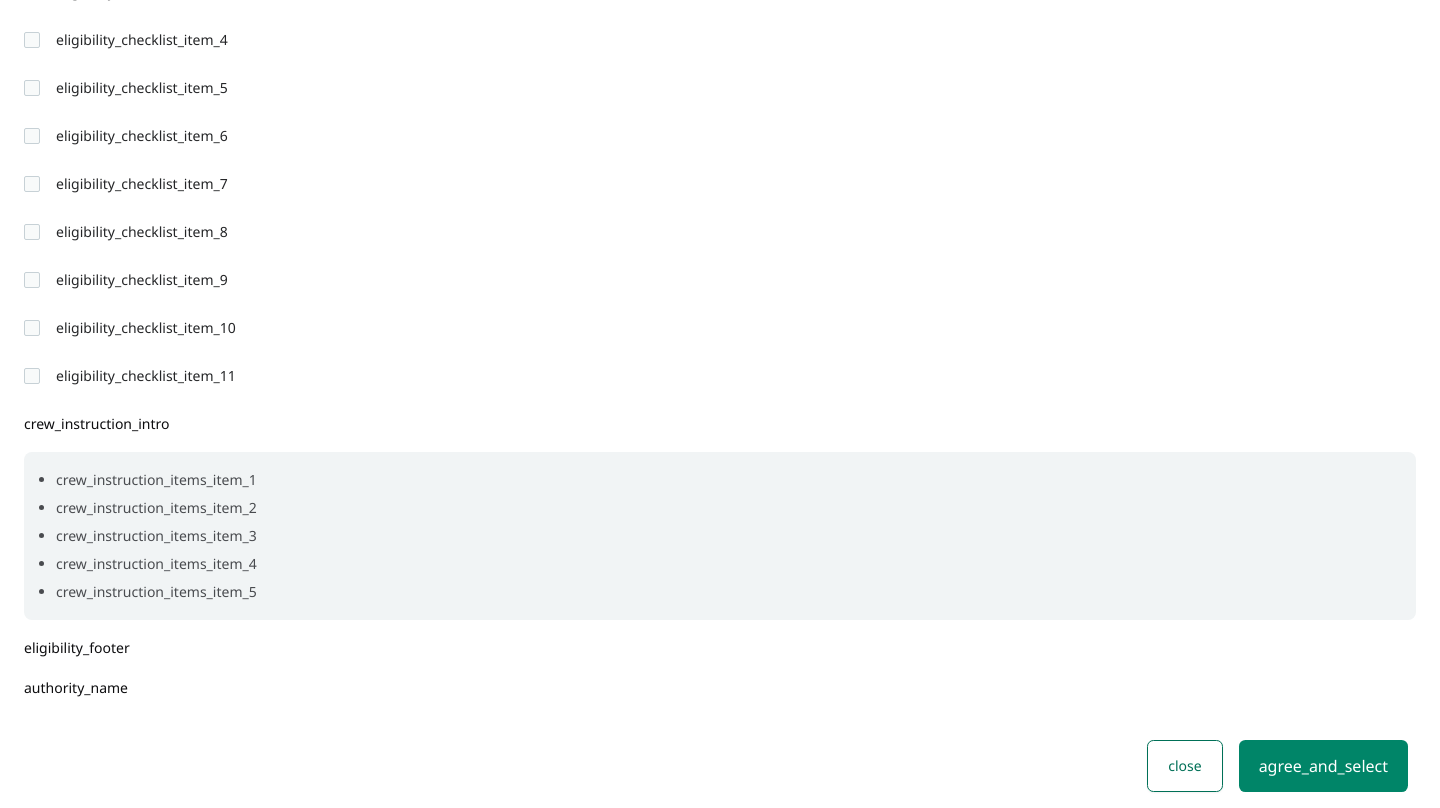
Test: EmergencyExitSupportContent › shows the checklist error and focuses the banner when agree is clicked too early
The image size is (1440, 808).
(page scrolled)
Click the button "agree_and_select" at (1323, 766), box left=1239, top=740, right=1408, bottom=792
(page scrolled)
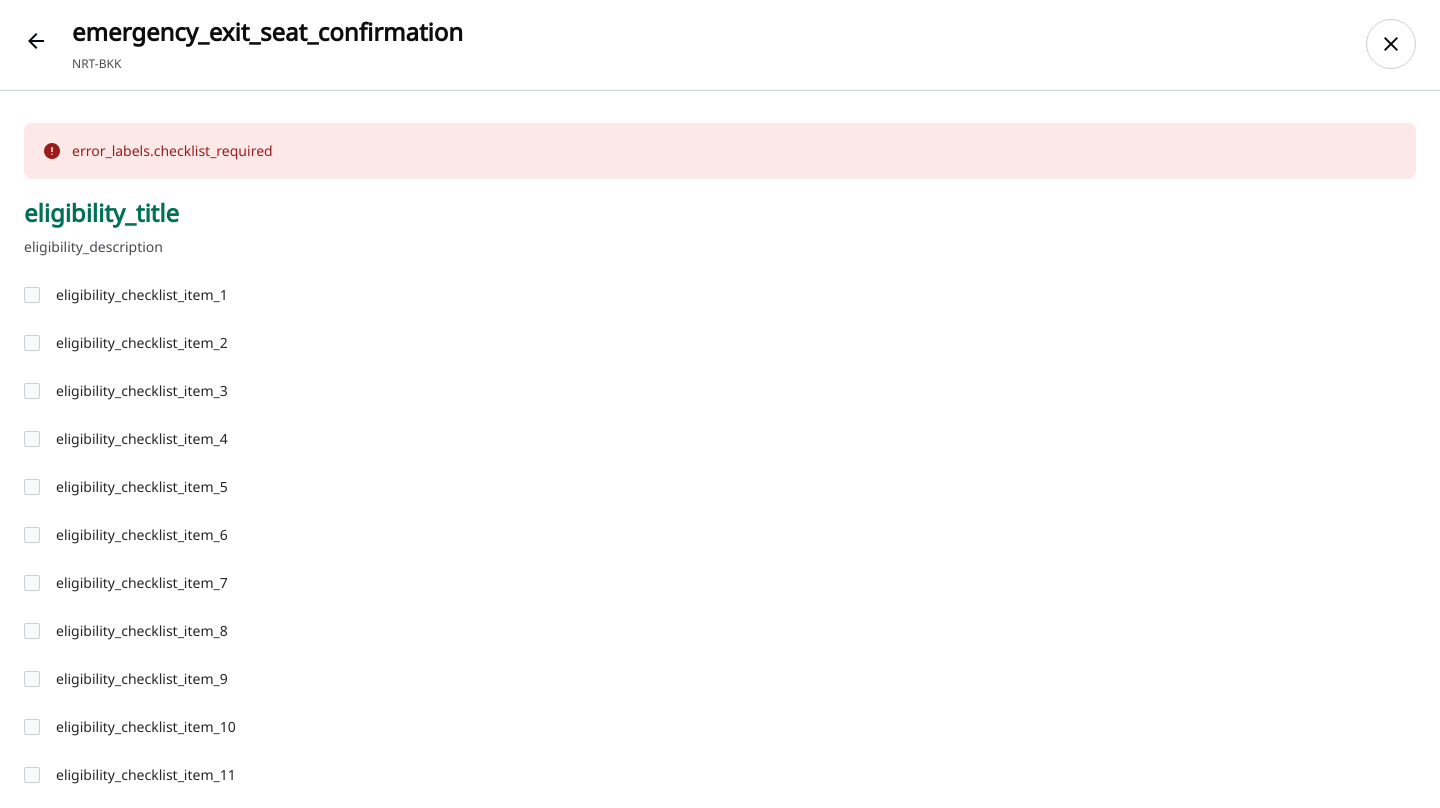
Expected: the text "error_labels.checklist_required" is shown, left=72, top=141, right=273, bottom=160
